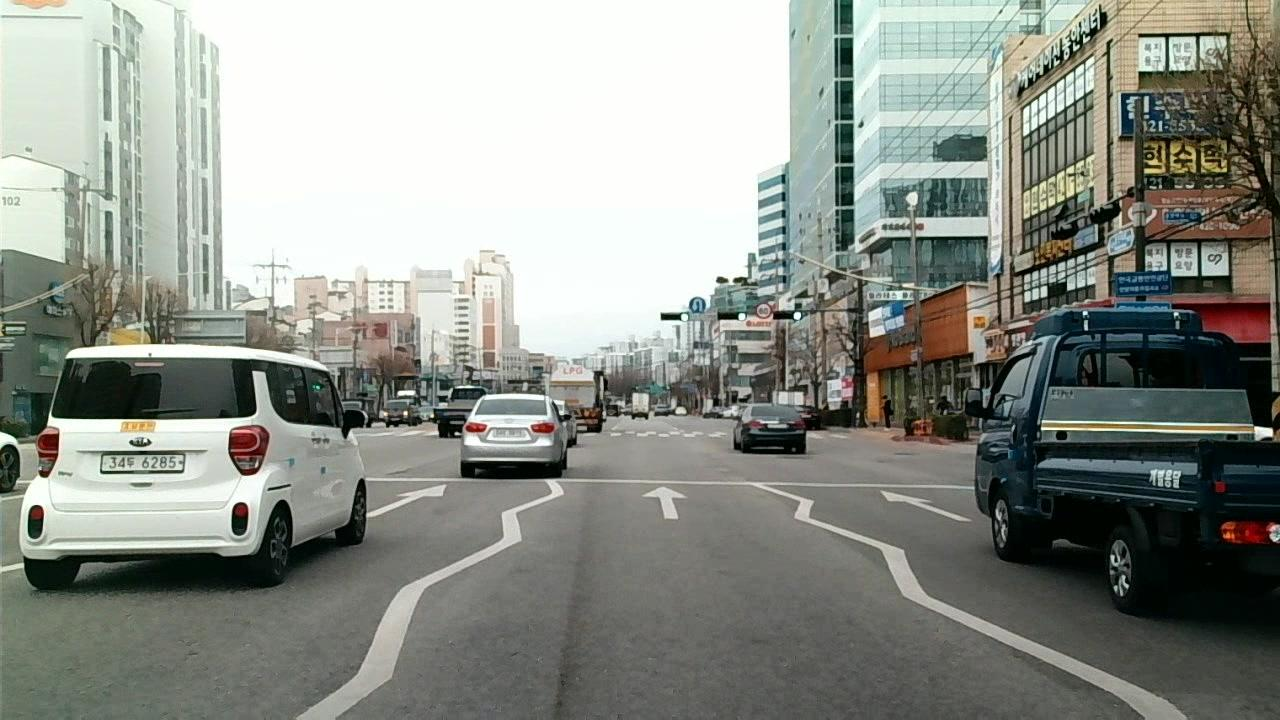banner: (551, 578, 581, 720)
